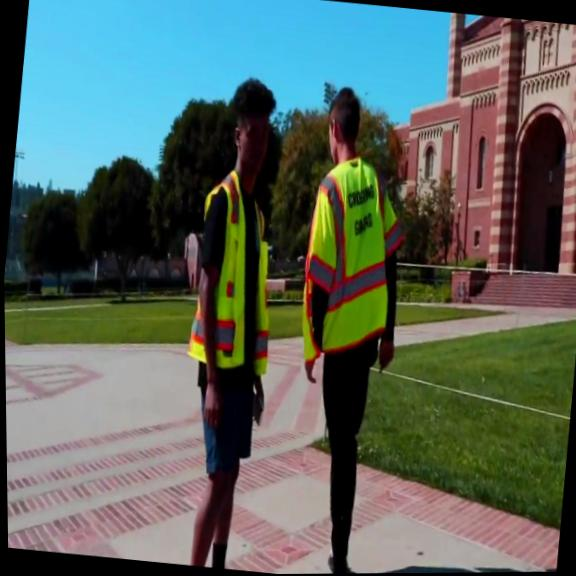safety_vest: (292, 152, 412, 371), (181, 167, 287, 375)
